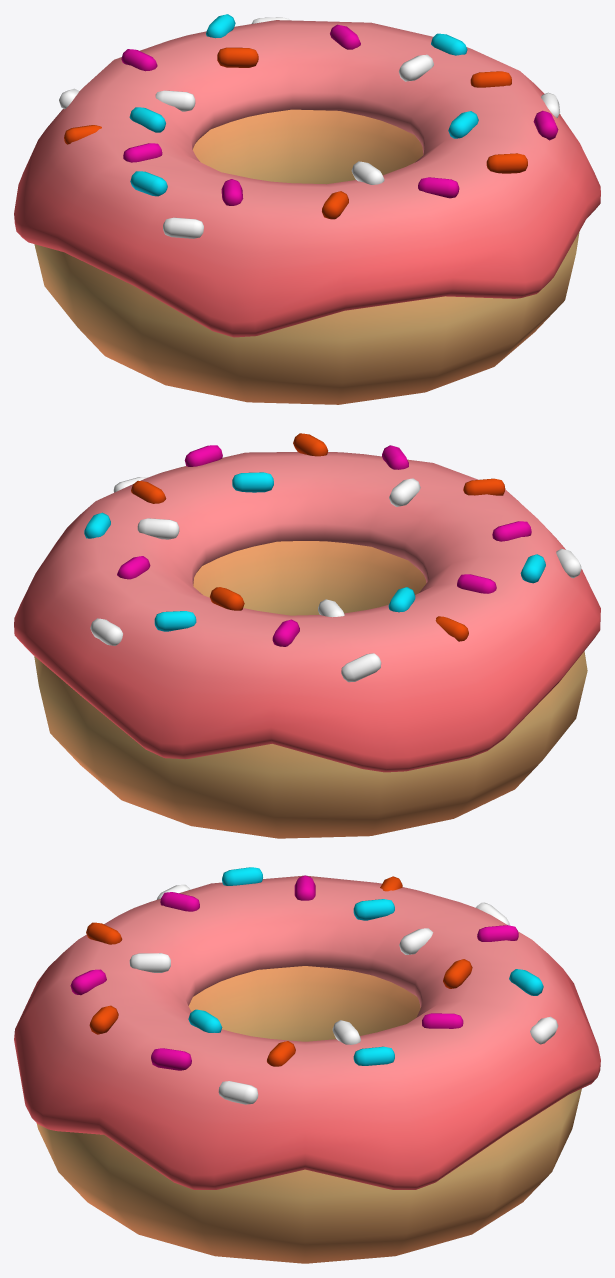
Rendered from Donut_V3_00.fbx.
The picture shows the model from 3 angles, top to bottom: view 1: azimuth 30°, elevation 25°; view 2: azimuth 150°, elevation 25°; view 3: azimuth 270°, elevation 25°; orthographic projection.
Visible parts, largest first — view 1: Donut_V3_00; view 2: Donut_V3_00; view 3: Donut_V3_00.
Boxes of the visible parts, left/top/right/bottom form: Donut_V3_00: left=14, top=14, right=600, bottom=404; Donut_V3_00: left=14, top=433, right=600, bottom=838; Donut_V3_00: left=14, top=867, right=600, bottom=1263.
Size of the model in its own units: 42.64 by 17.41 by 42.95.
